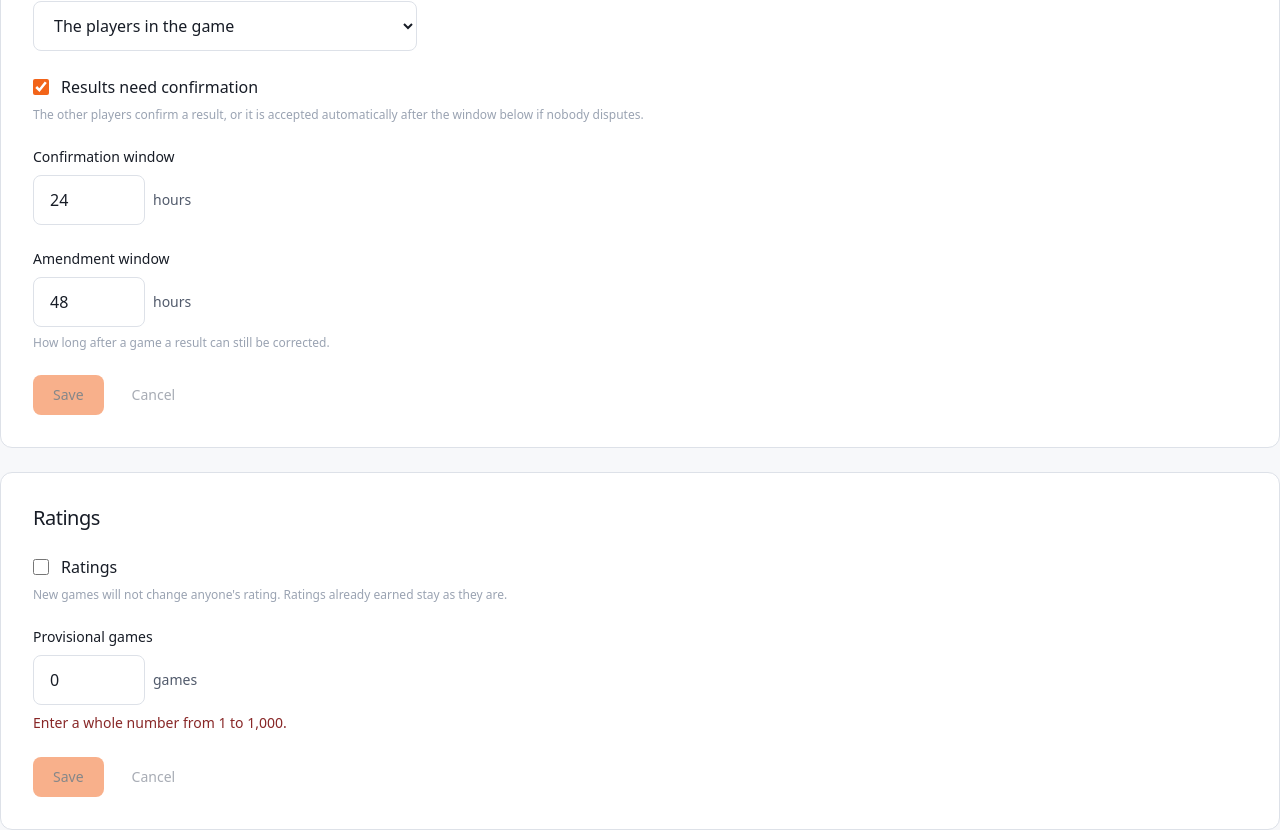
Test: a stored value outside its bounds › repairs one fault and leaves the other revealed until its own save
(page scrolled)
Replace the text in the field with id "setting-provisionalGames" with "10": (89, 680) x1=33 y1=655 x2=145 y2=705
(page scrolled)
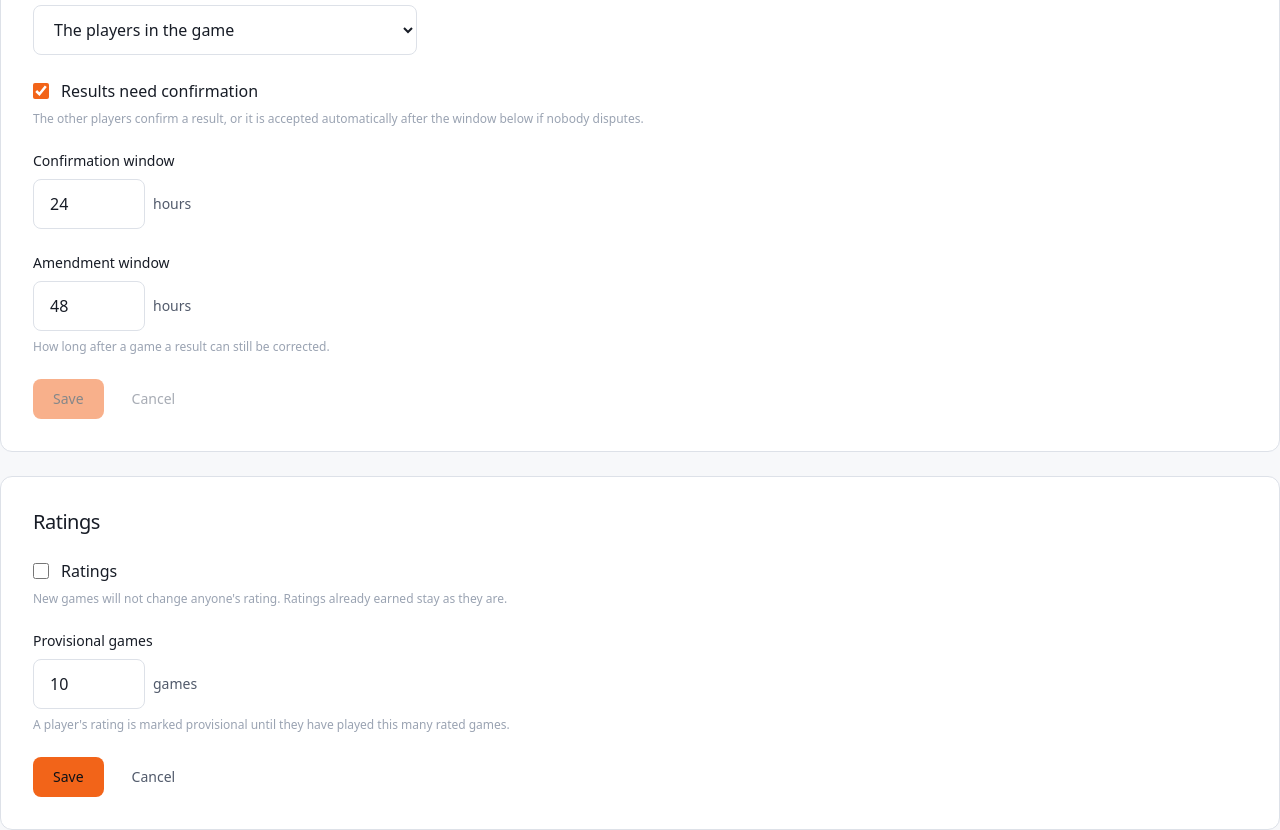
Click the button "Save" below "Provisional games": (68, 777) x1=33 y1=757 x2=104 y2=797
(page scrolled)
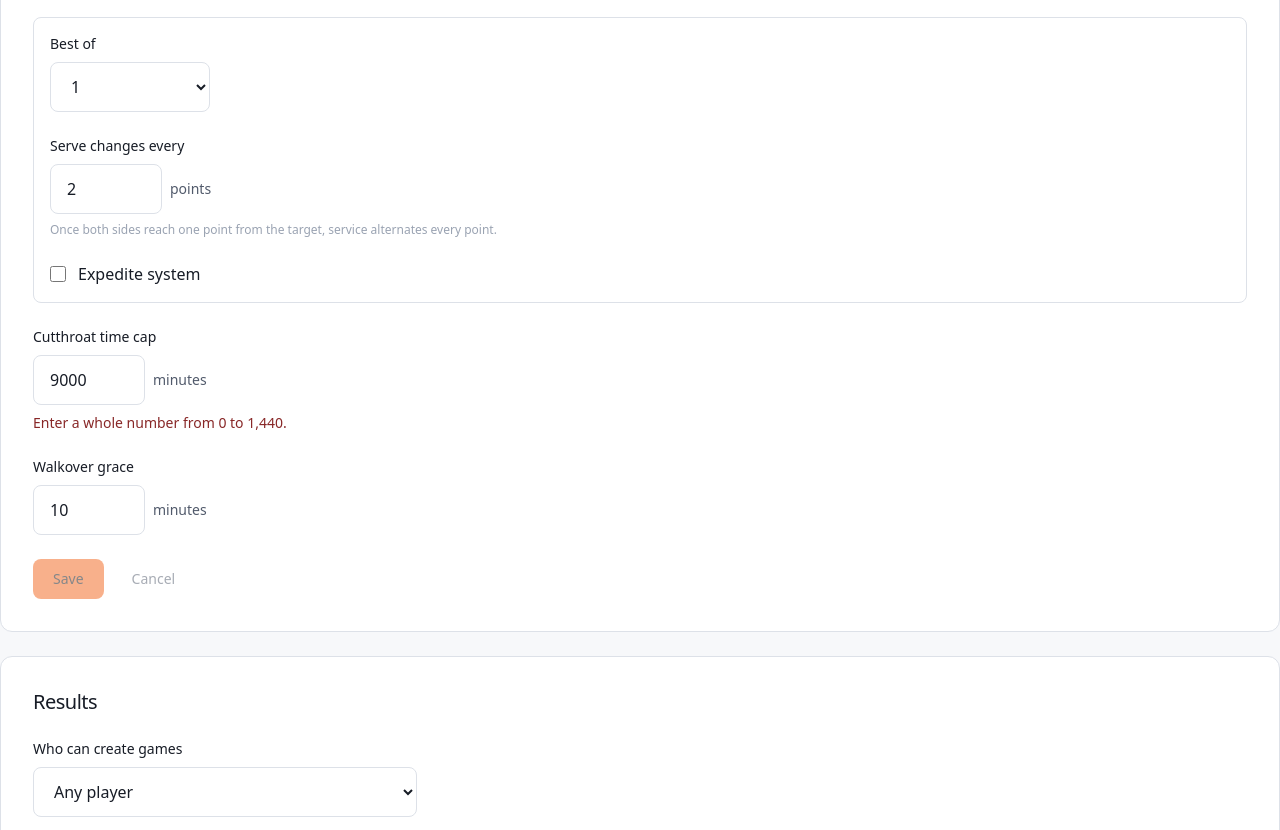
Check: the element that starts with "Formats and scoring" shows "Enter a whole number from 0 to 1,440.", box x1=33 y1=413 x2=287 y2=432
Replace the text in the field with id "setting-cutthroatTimeCap" with "15": (89, 380) x1=33 y1=355 x2=145 y2=405
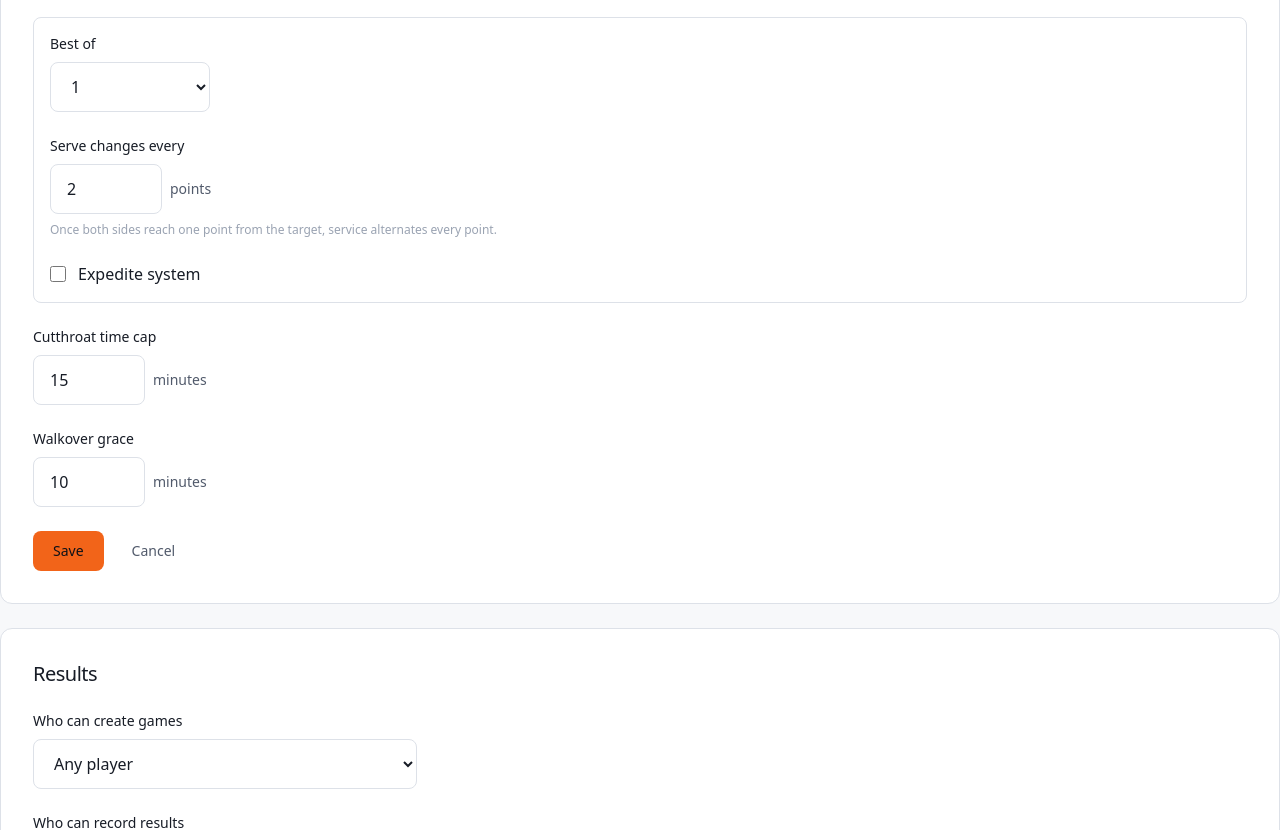
Click the button "Save": (68, 551) x1=33 y1=531 x2=104 y2=571
(page scrolled)
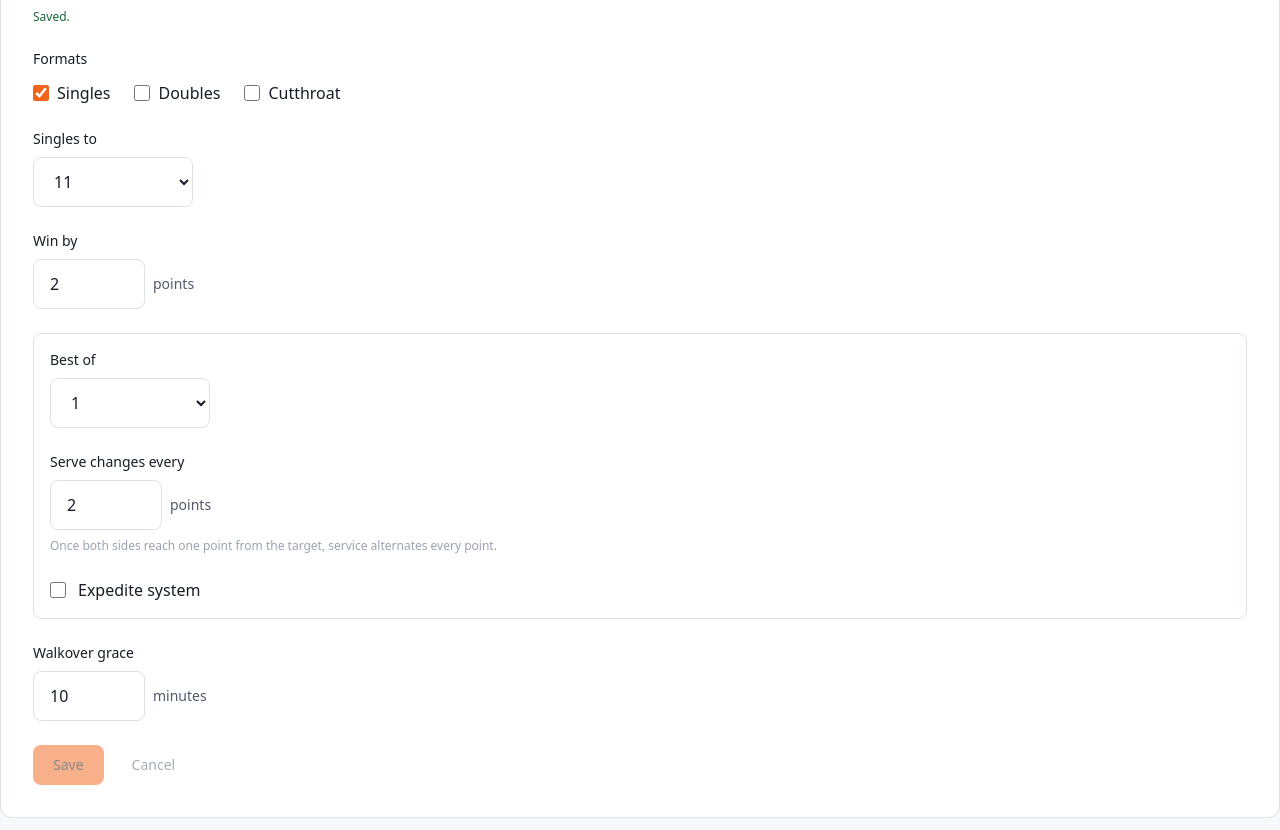
Check: the text "Enter a whole number from 0 to 1,440." is not shown
Check: the element that starts with "Formats and scoring" shows "Saved.", box x1=33 y1=8 x2=70 y2=25
